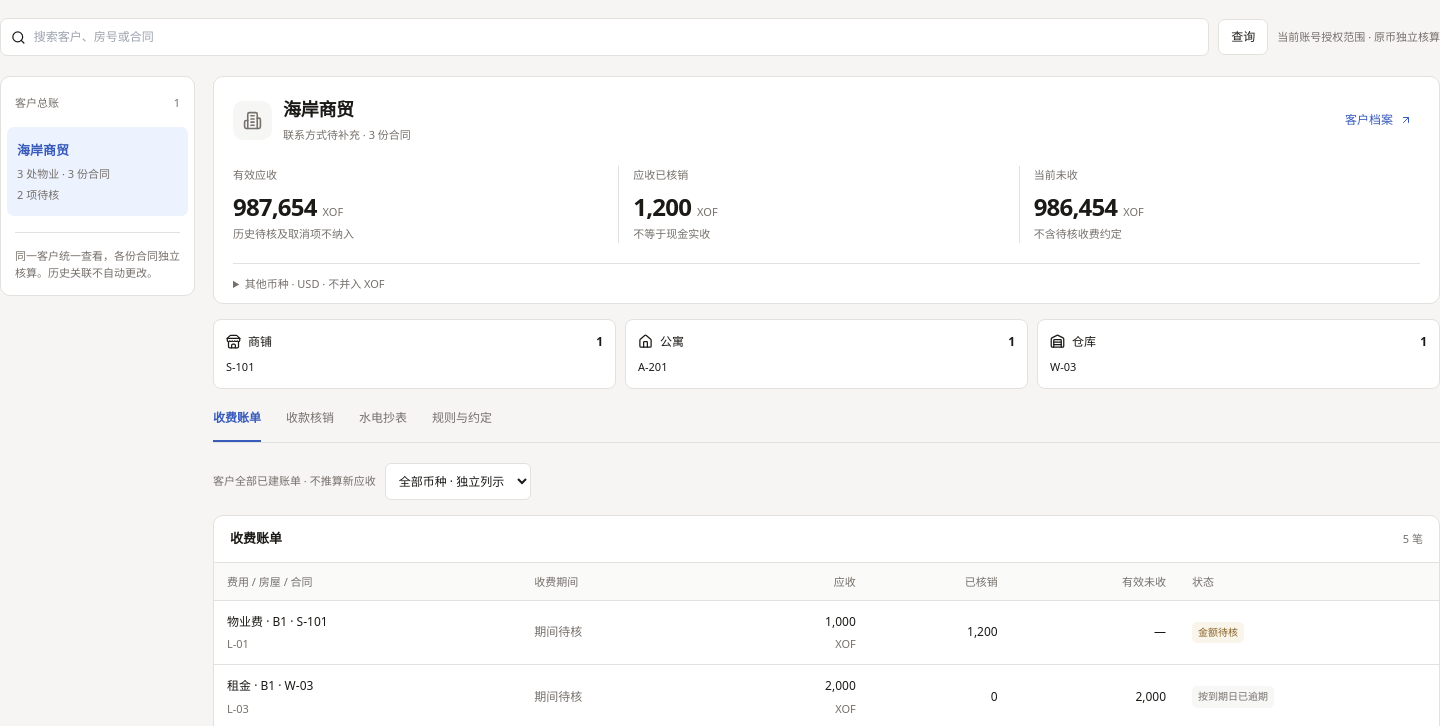
Test: CIMAC customer-first finance workspace › keeps inconsistent legacy amounts visible but labels them for review without a zero or collectible balance
The width and height of the screenshot is (1440, 726).
Check: the row "物业费 · B1 · S-101 L-01 期间待核 1,000 XOF 1,200 — 金额待核" is shown, box [214, 600, 1439, 665]
Check: the cell "—" is shown, box [1011, 600, 1179, 665]
Click the button with aria-label "查看账单 Bill 1": (277, 632) [227, 613, 328, 652]
(page scrolled)
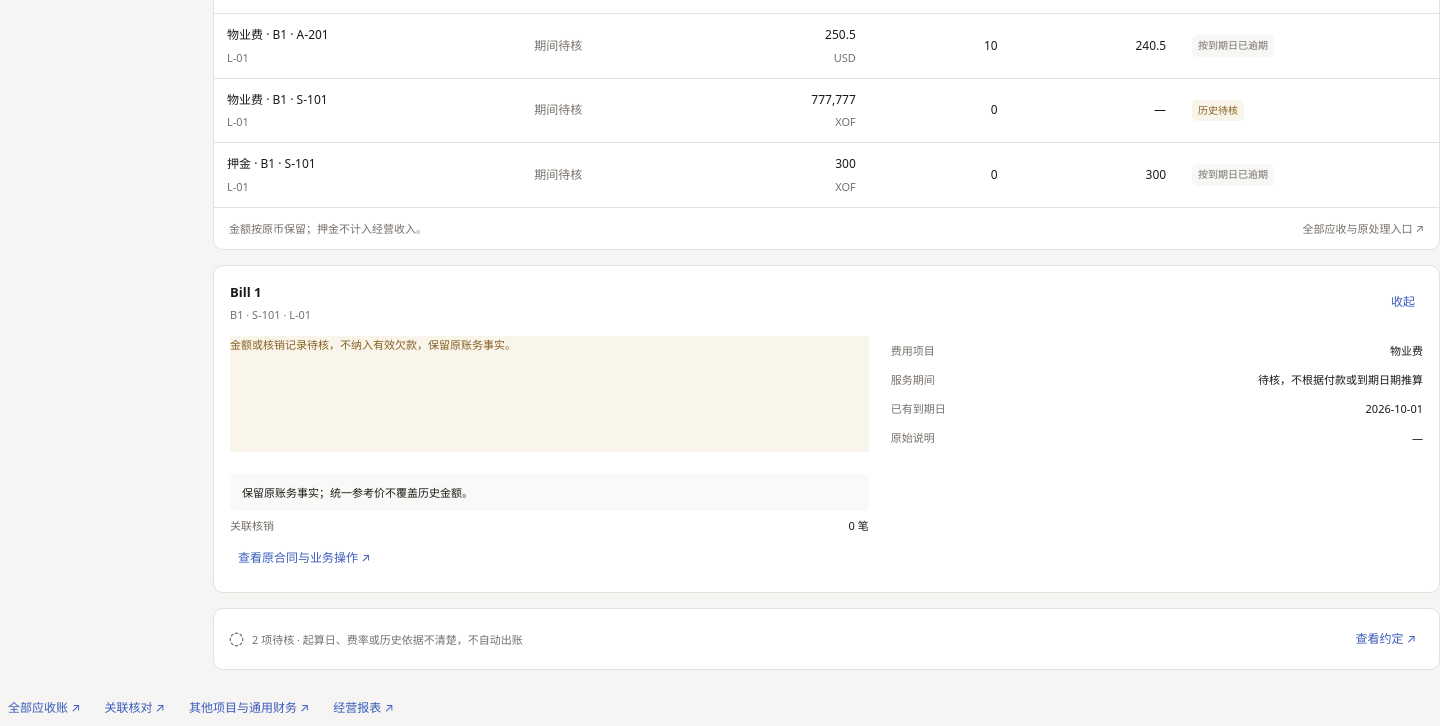
Check: the element named "所选账单详情" shows "不纳入有效欠款", box [230, 337, 516, 352]
